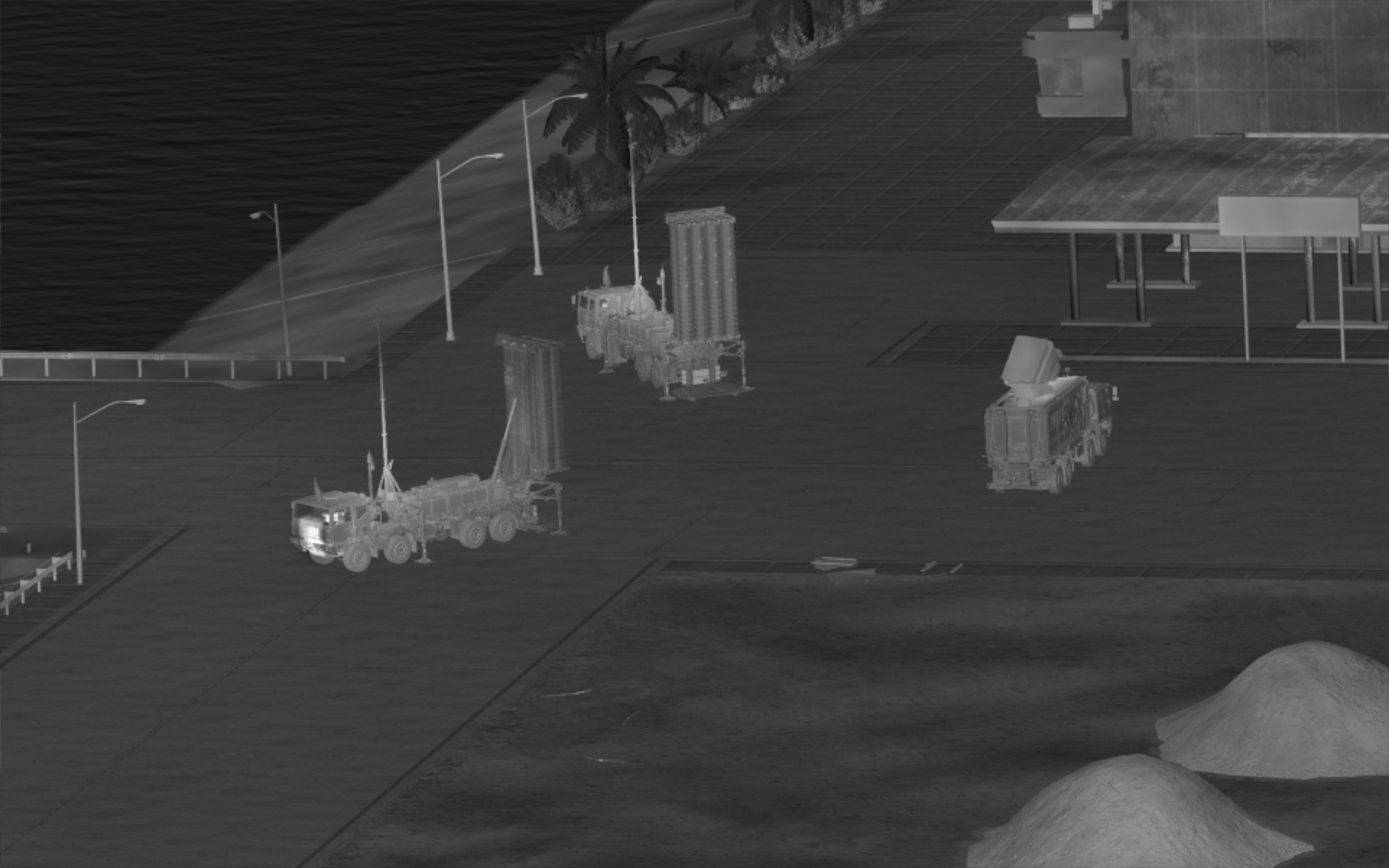spaa_TEL: (290, 333, 571, 572), (570, 205, 751, 394)
spaa_tads: (984, 335, 1119, 494), (980, 412, 983, 415)
